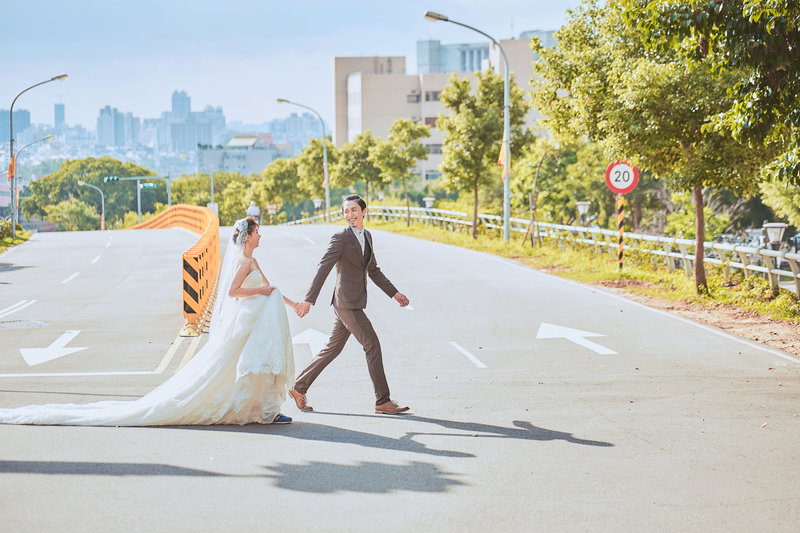people: (296, 197, 411, 415), (205, 219, 306, 424)
